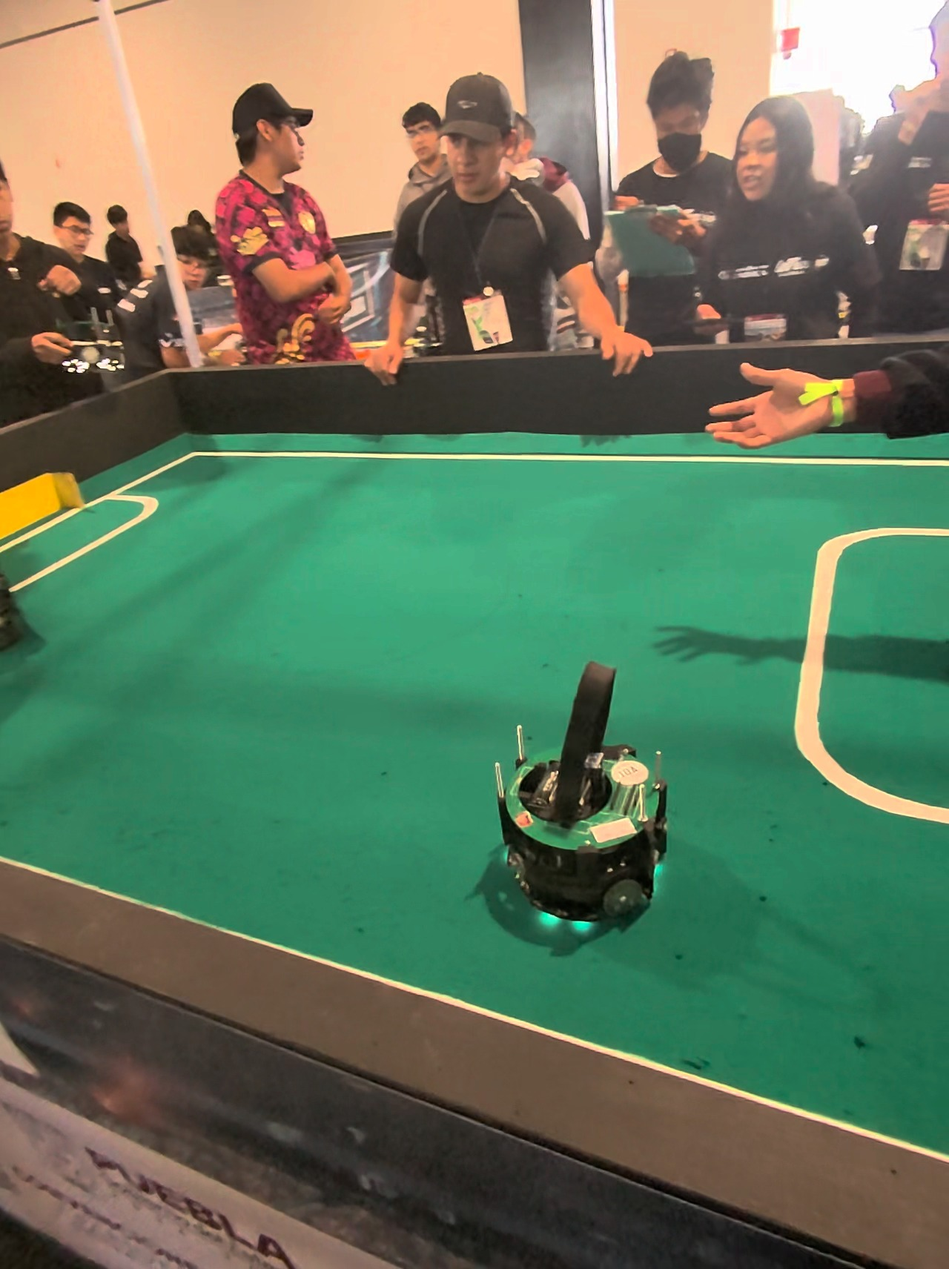Robot: (480, 644, 684, 959), (0, 531, 27, 663)
